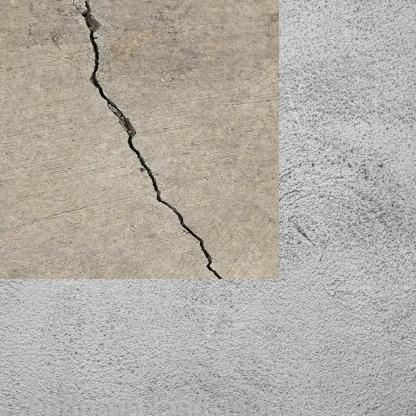Cracks: (63, 0, 208, 258)
